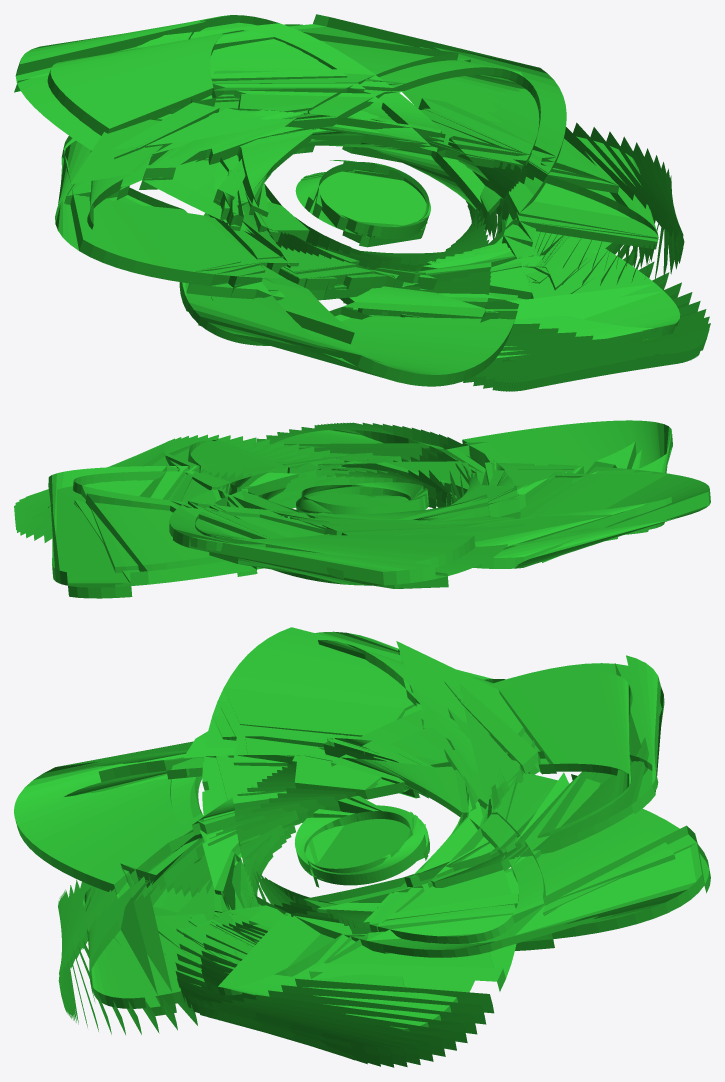
The model's file is react23.glb.
3 views of the same model, one above another, from view 1: azimuth 30°, elevation 25°; view 2: azimuth 150°, elevation 25°; view 3: azimuth 270°, elevation 25° (orthographic). The views are drawn at different scales.
Visible parts, largest first — view 1: Curve; view 2: Curve; view 3: Curve.
Part boxes in pixels (box(x1,y1,x2,y2)): Curve: box(14, 14, 710, 391); Curve: box(14, 420, 710, 598); Curve: box(14, 627, 710, 1067).
Size of the model in its own units: 0.6625 by 0.1816 by 0.6359.
